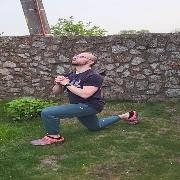jumping_jacks: (30, 39, 142, 153)
